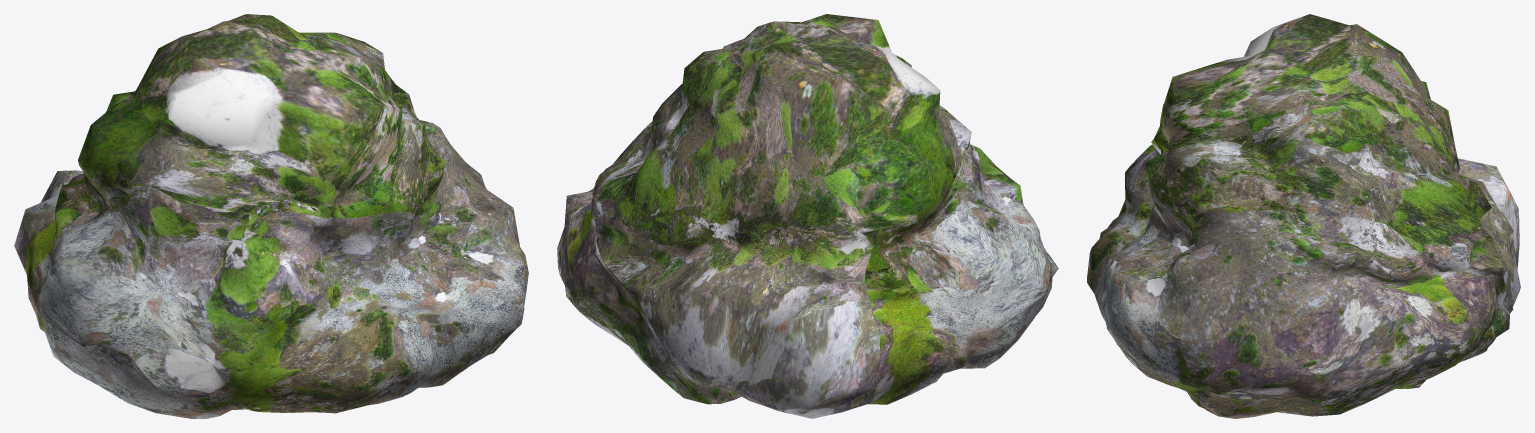
The model's file is stone_4.fbx.
3 views of the same model, side by side, from view 1: azimuth 30°, elevation 25°; view 2: azimuth 150°, elevation 25°; view 3: azimuth 270°, elevation 25° (orthographic). The views are drawn at different scales.
Parts seen in each view (by area): view 1: sphere; view 2: sphere; view 3: sphere.
Boxes of the visible parts, x1,y1,x2,y2 form: sphere: (14,14,528,418); sphere: (557,14,1058,418); sphere: (1087,14,1520,418).
Size of the model in its own units: 471 by 331 by 428.
